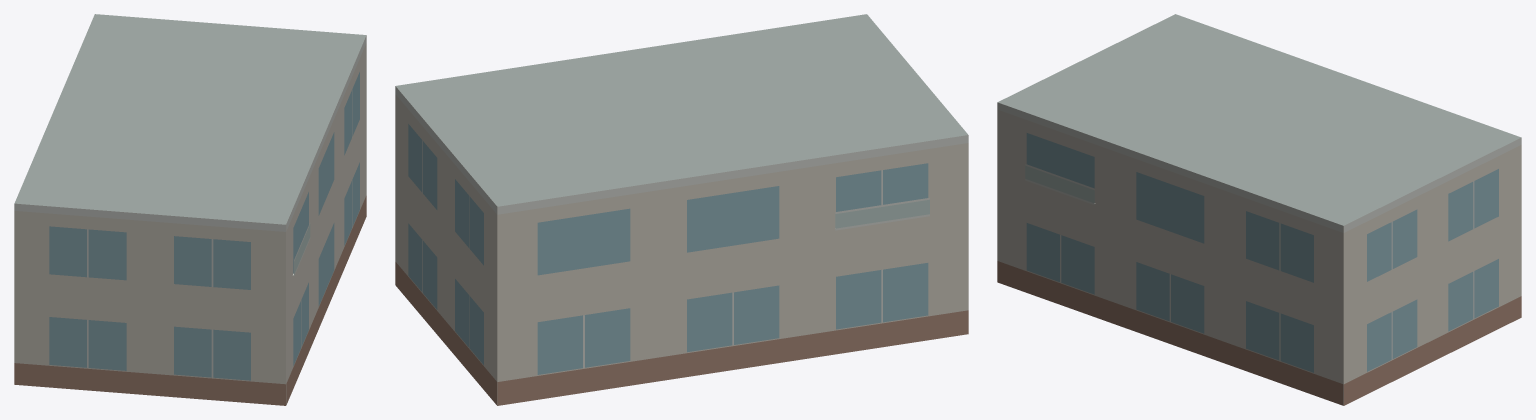
File: survey-upis-32908278.glb
3 views of the same model, side by side, from view 1: azimuth 30°, elevation 25°; view 2: azimuth 150°, elevation 25°; view 3: azimuth 270°, elevation 25° (orthographic). The views are drawn at different scales.
Visible parts, largest first — view 1: survey-upis-32908278.tmp; view 2: survey-upis-32908278.tmp; view 3: survey-upis-32908278.tmp.
Part boxes in pixels (x1,y1,x2,y2): survey-upis-32908278.tmp: (14,14,366,405); survey-upis-32908278.tmp: (395,14,968,405); survey-upis-32908278.tmp: (997,14,1521,405).
Size of the model in its own units: 15.41 by 6.1 by 16.11.
